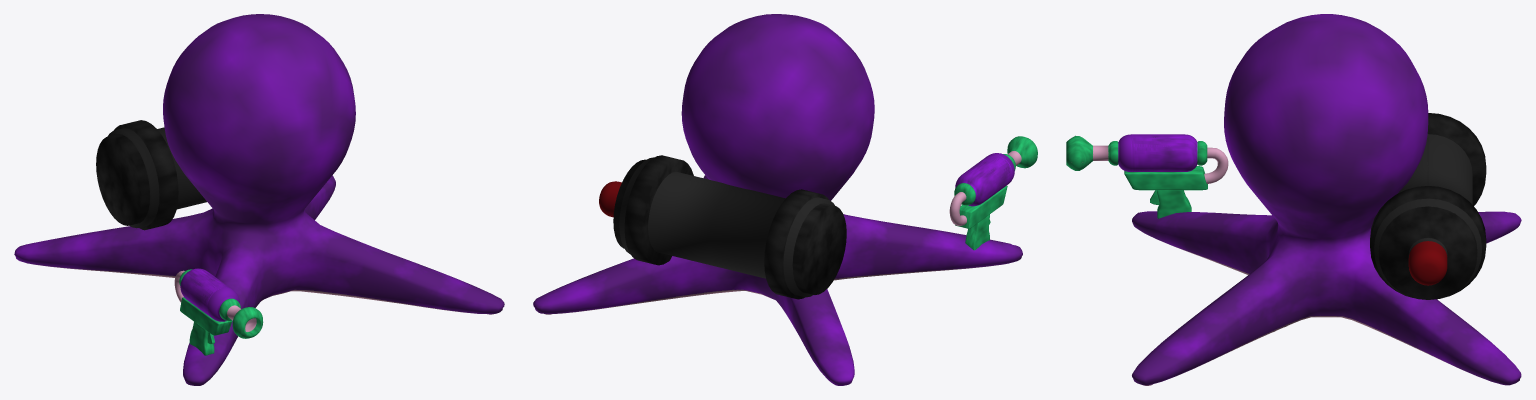
Rendered from Polvo(1).fbx.
3 views of the same model, side by side, from view 1: azimuth 30°, elevation 25°; view 2: azimuth 150°, elevation 25°; view 3: azimuth 270°, elevation 25° (orthographic). The views are drawn at different scales.
Visible parts, largest first — view 1: Polvo, Tanque1, Arma; view 2: Polvo, Tanque1, Arma; view 3: Polvo, Tanque1, Arma.
Boxes of the visible parts, box(x1,y1,x2,y2) form: Polvo: box(14, 14, 504, 385); Tanque1: box(96, 120, 206, 230); Arma: box(174, 268, 263, 355); Polvo: box(533, 14, 1022, 385); Tanque1: box(599, 155, 846, 299); Arma: box(949, 136, 1037, 250); Polvo: box(1132, 14, 1521, 385); Tanque1: box(1370, 113, 1486, 299); Arma: box(1066, 134, 1228, 218).
Bounding box in the file's own units: 475 × 376 × 550.
